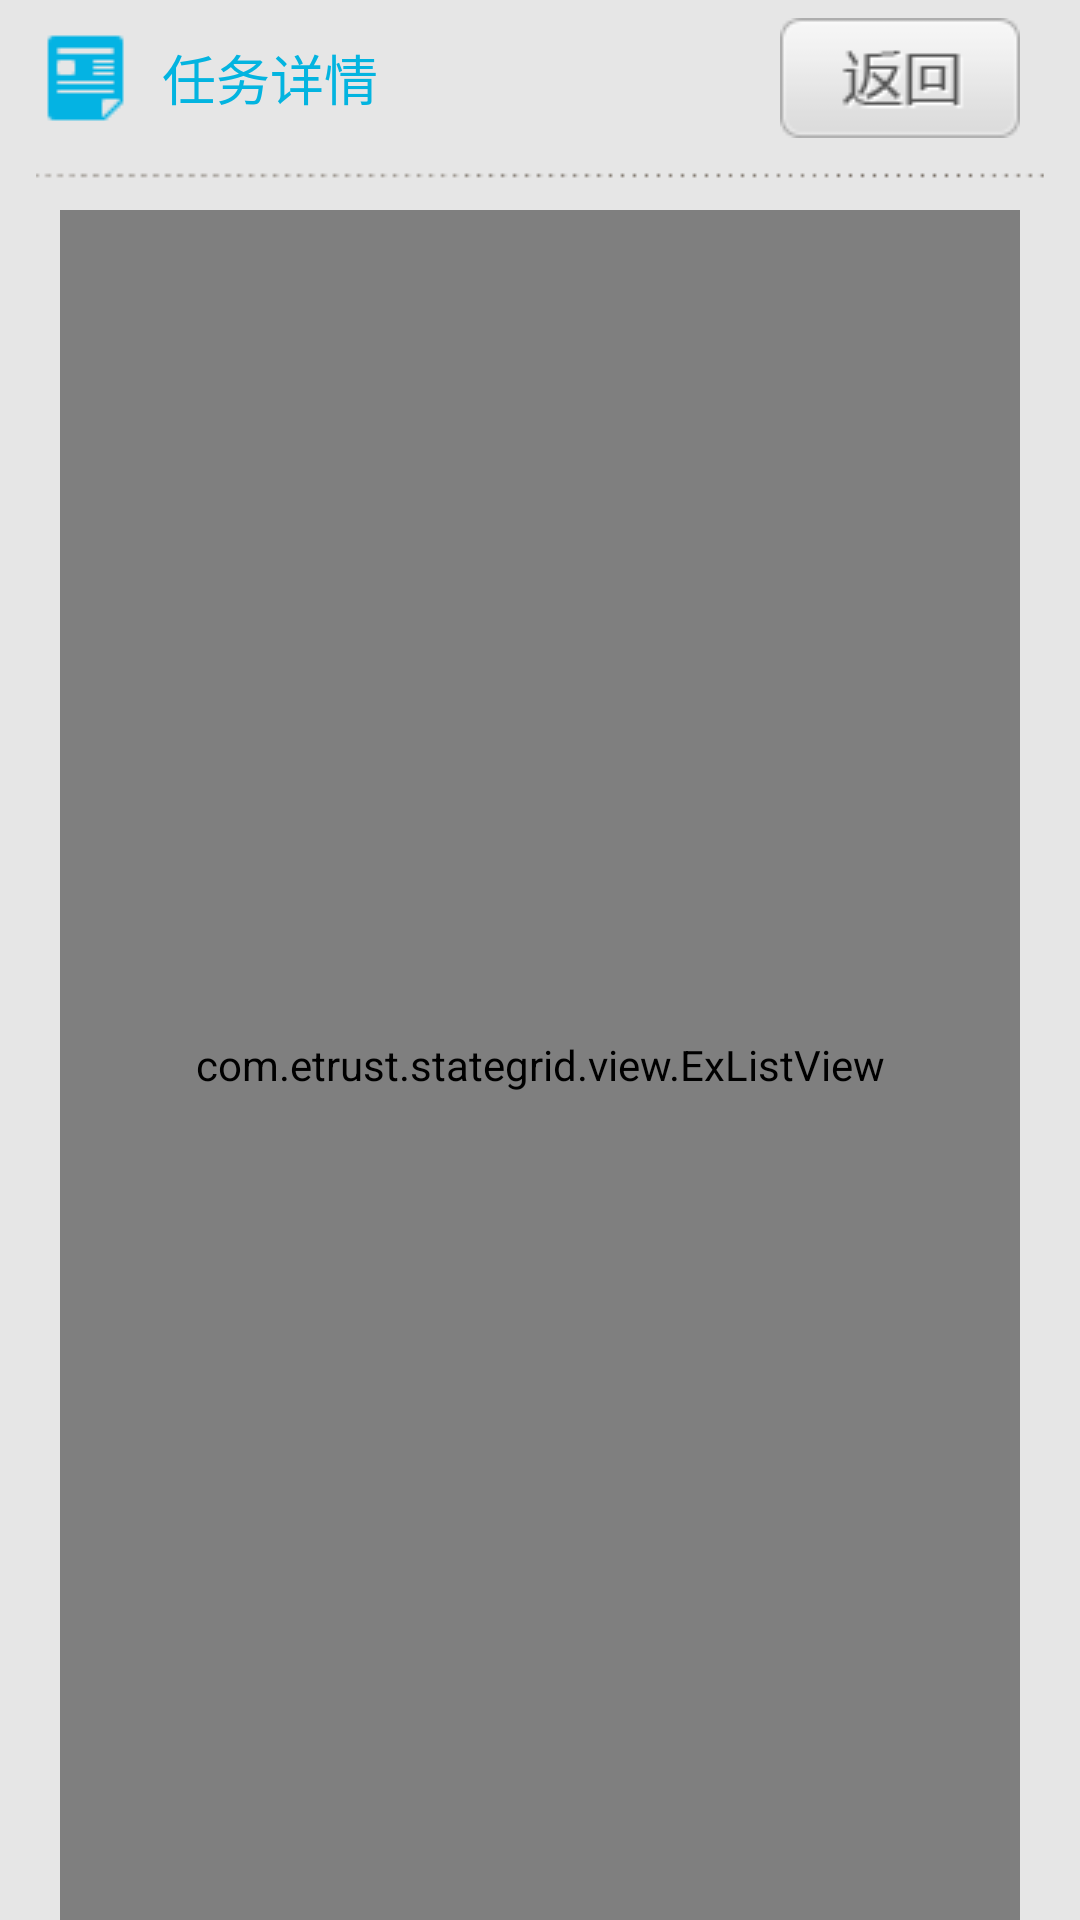

Icons on this 1080*1920 Android screen, each with the point to tap as (x,y):
task detail: (85,78)
